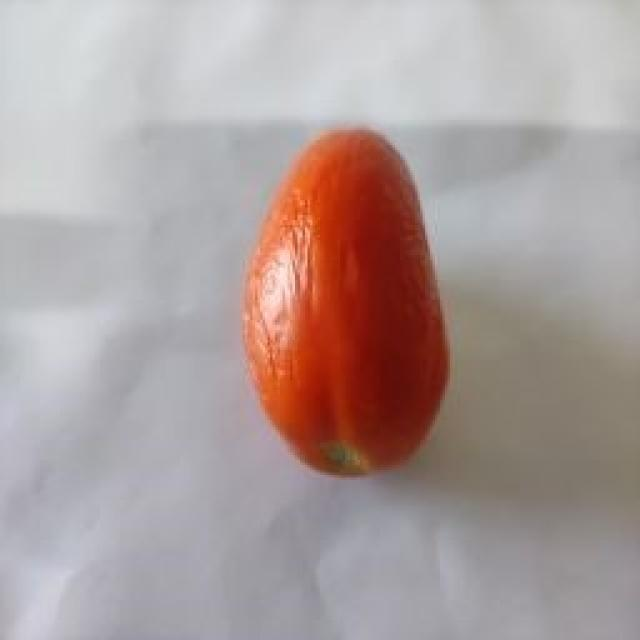overripe: (241, 122, 455, 480)
